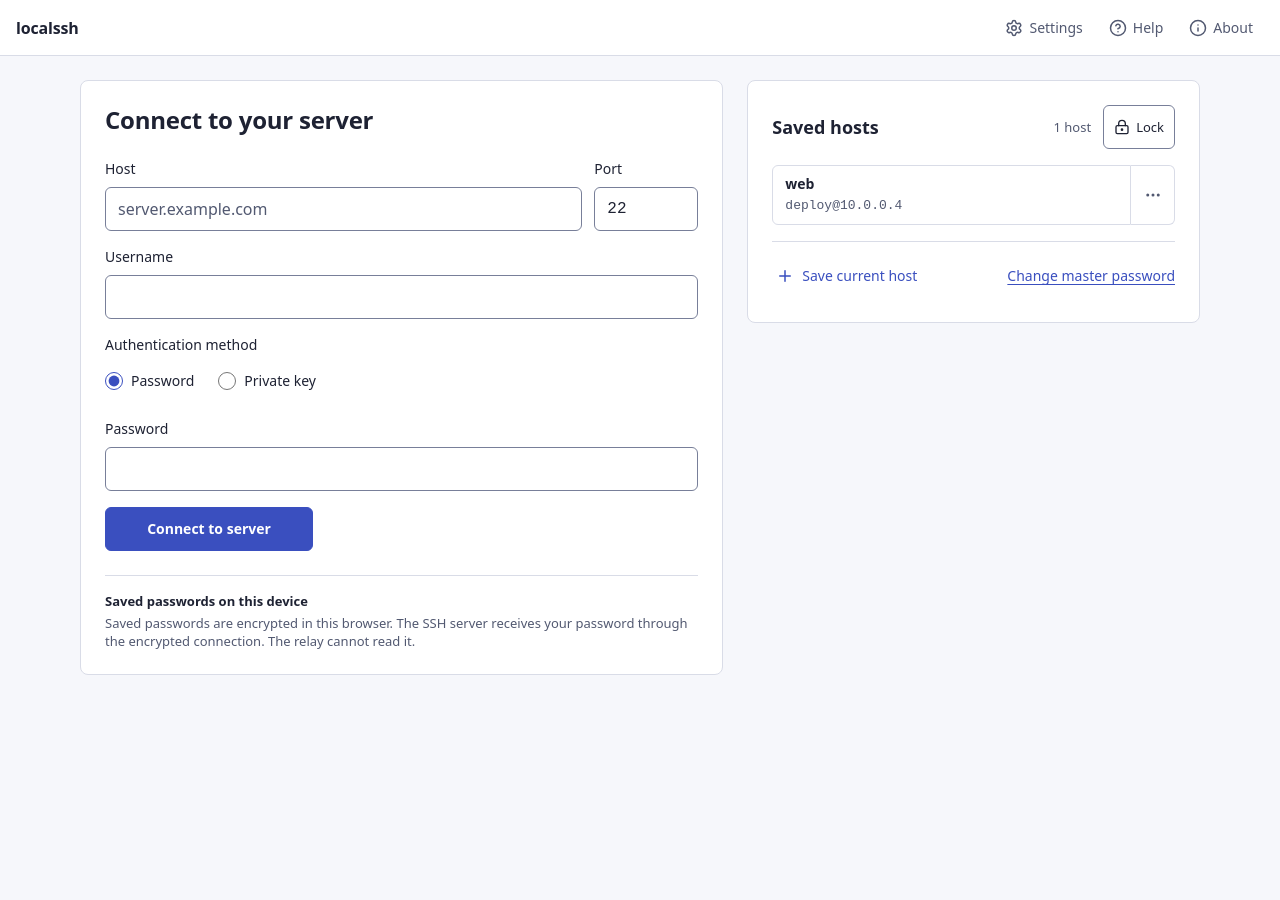
Test: App › one-tap Reconnect › opens the prefilled form when a saved entry changed: {"host":"other.test"}
Later steps or results of the test are not shown.
Click the button with aria-label "web:" at {"x": 813, "y": 206}, box [772,165,1131,225]
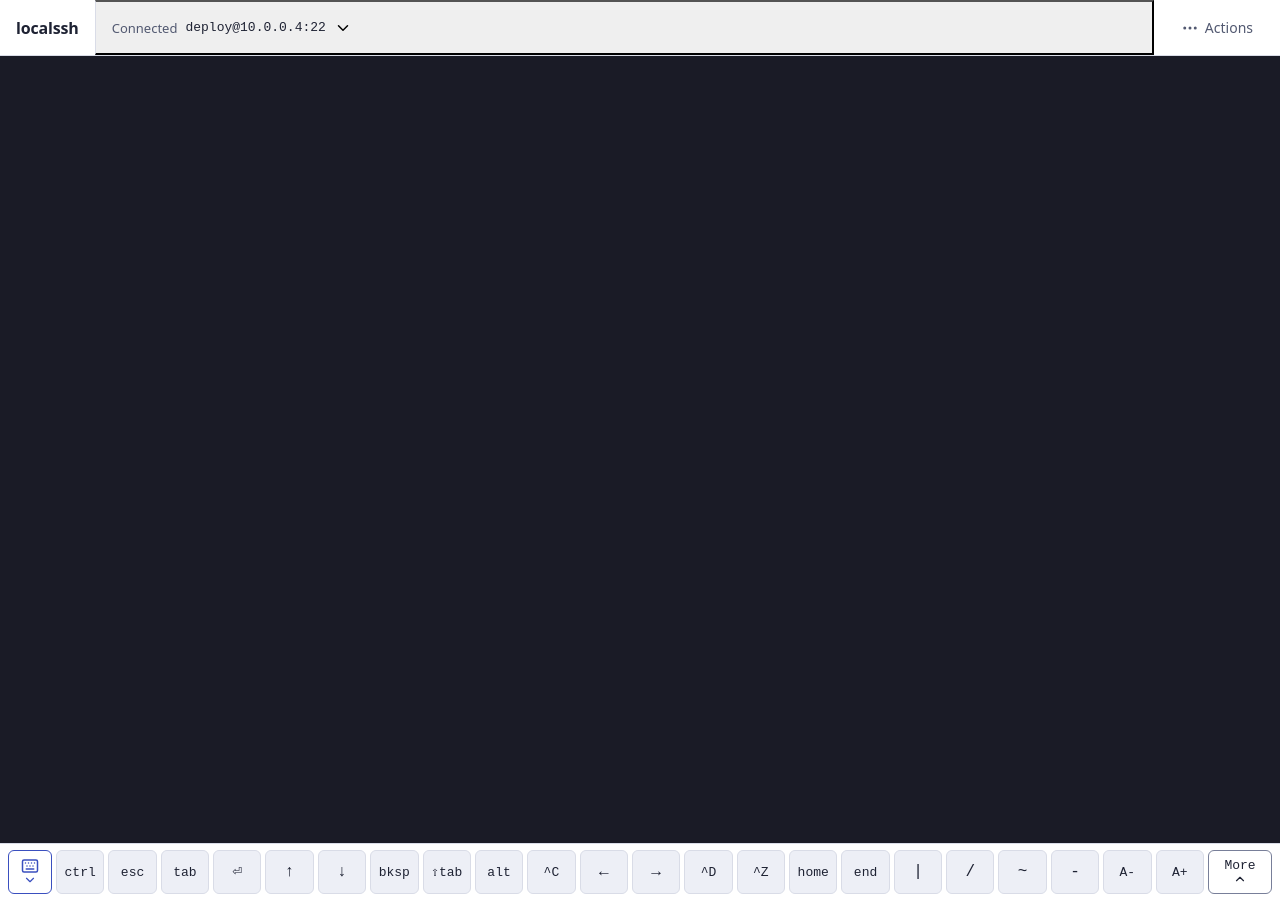
Result: the button with aria-label "Open terminals" is shown at [95,0,1154,55]
